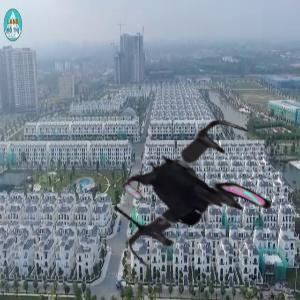drone: (110, 113, 291, 294)
